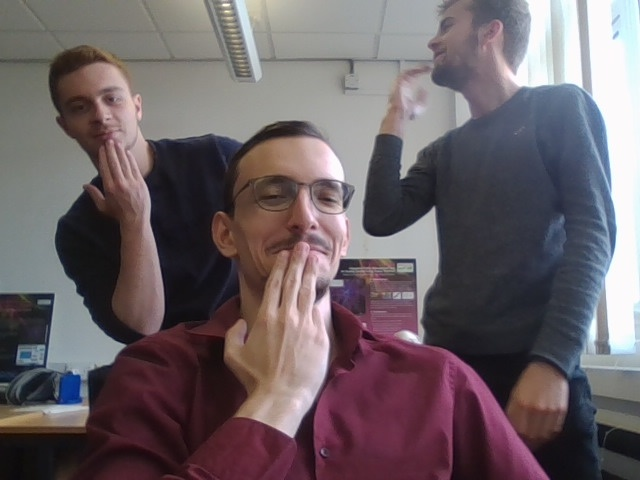livelong: (225, 241, 331, 385), (82, 138, 159, 219)
